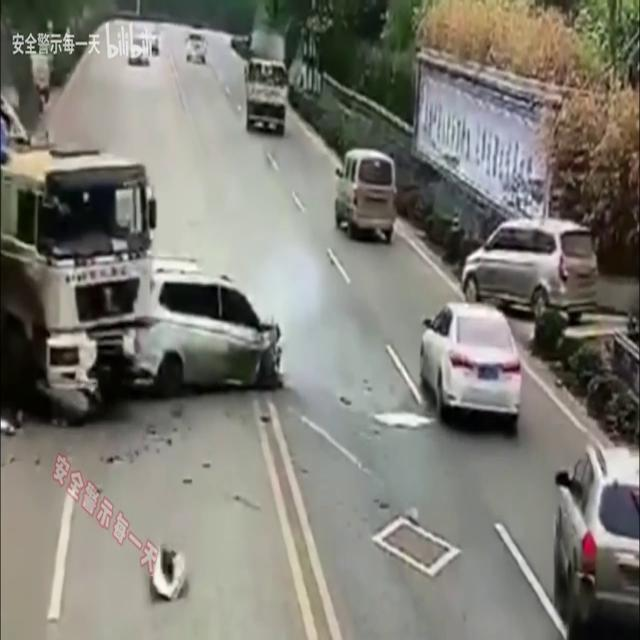multiple_accident: (2, 232, 291, 440)
normal: (547, 353, 638, 640), (409, 308, 526, 432), (302, 135, 415, 250), (226, 10, 297, 153)
